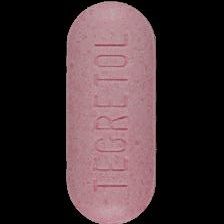0078-0509: (0, 0, 224, 224)
